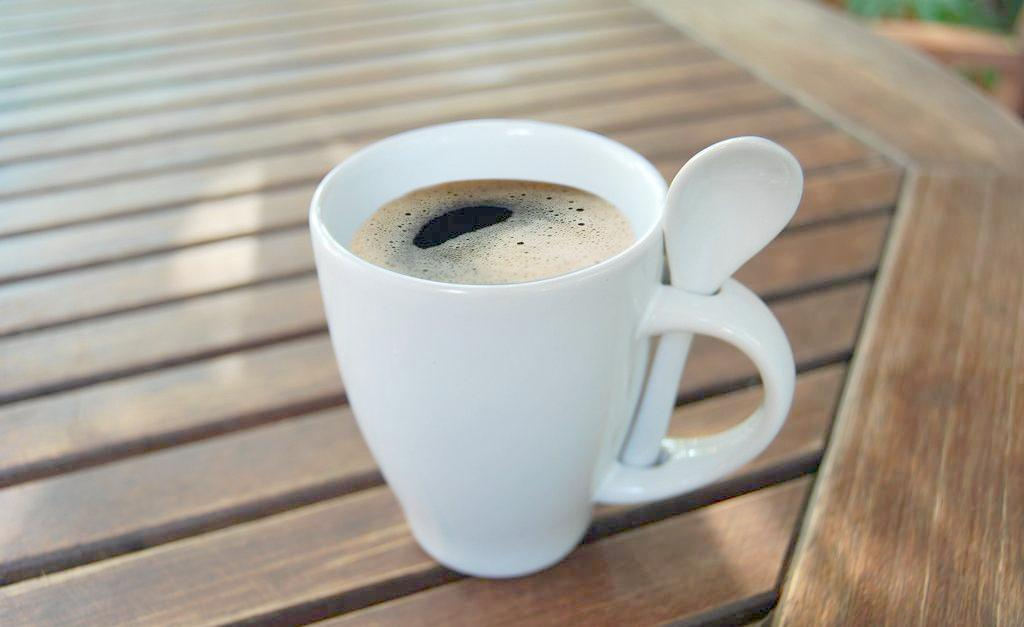cup: (302, 117, 798, 584)
